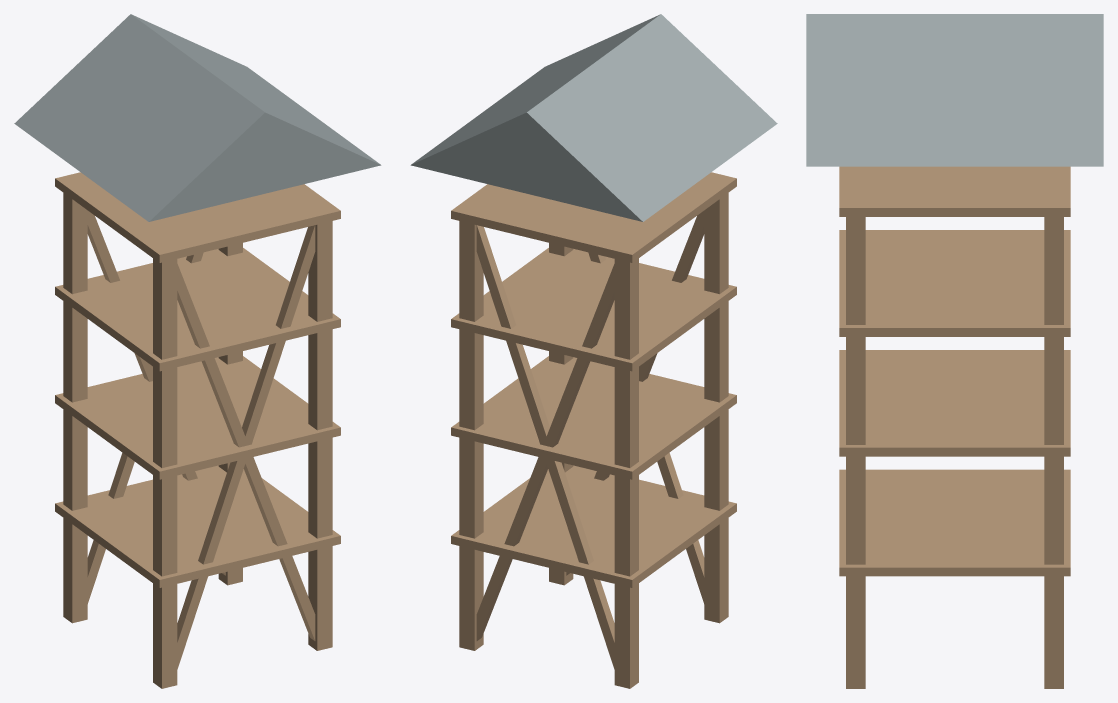
The picture shows the model from 3 angles, left to right: view 1: azimuth 30°, elevation 25°; view 2: azimuth 150°, elevation 25°; view 3: azimuth 270°, elevation 25°; orthographic projection. The views are drawn at different scales.
Size of the model in its own units: 9 by 21.06 by 9.
